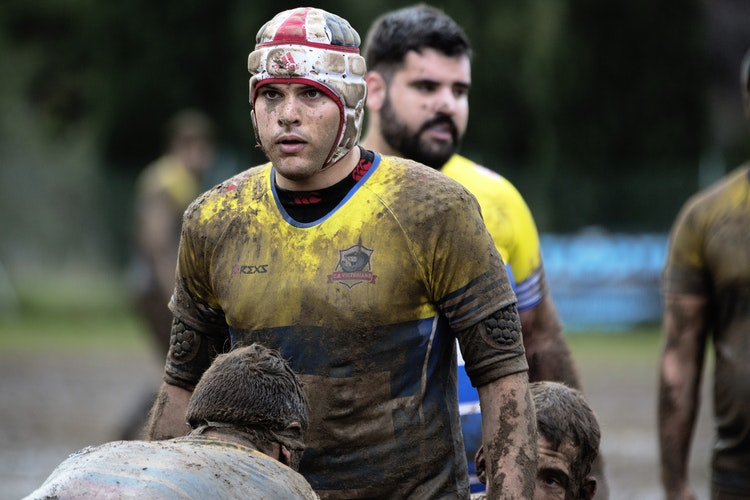helmet: (246, 5, 367, 162)
